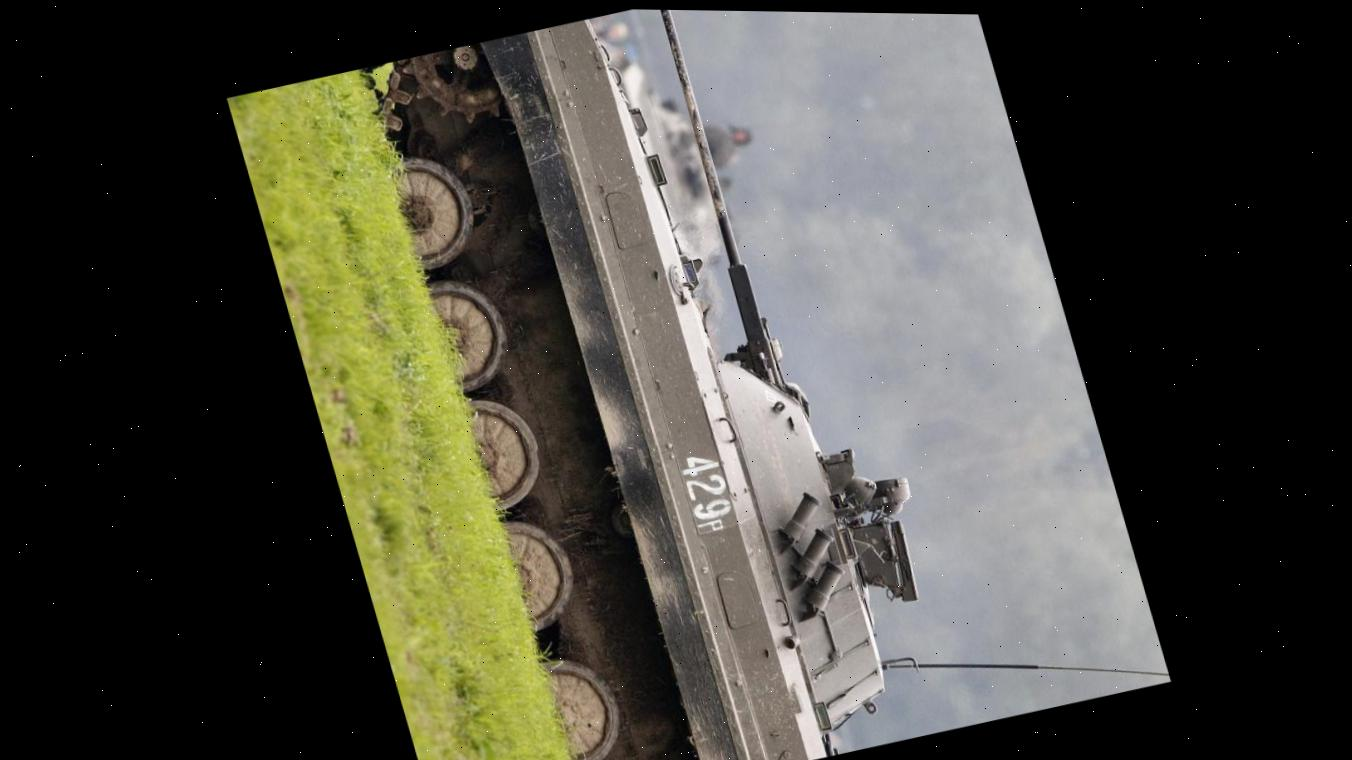tank: (352, 5, 983, 760)
